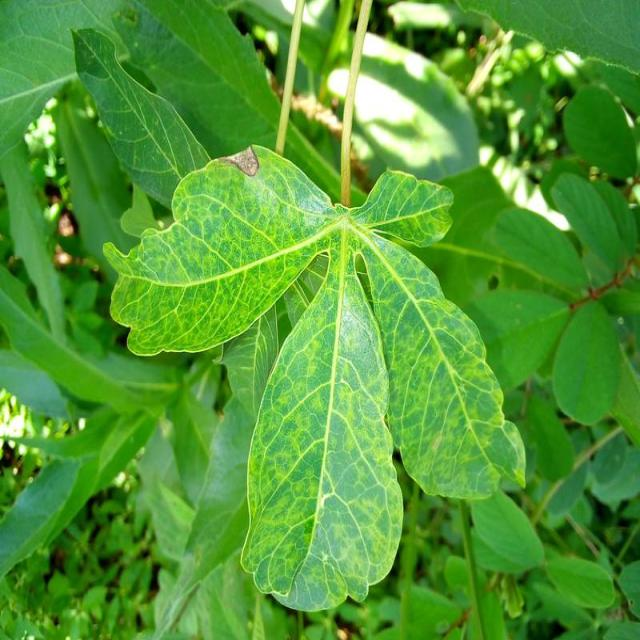cassava leaf: (101, 142, 526, 612), (239, 238, 404, 611), (101, 142, 336, 357)
